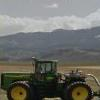Tractor: (6, 45, 96, 100)
